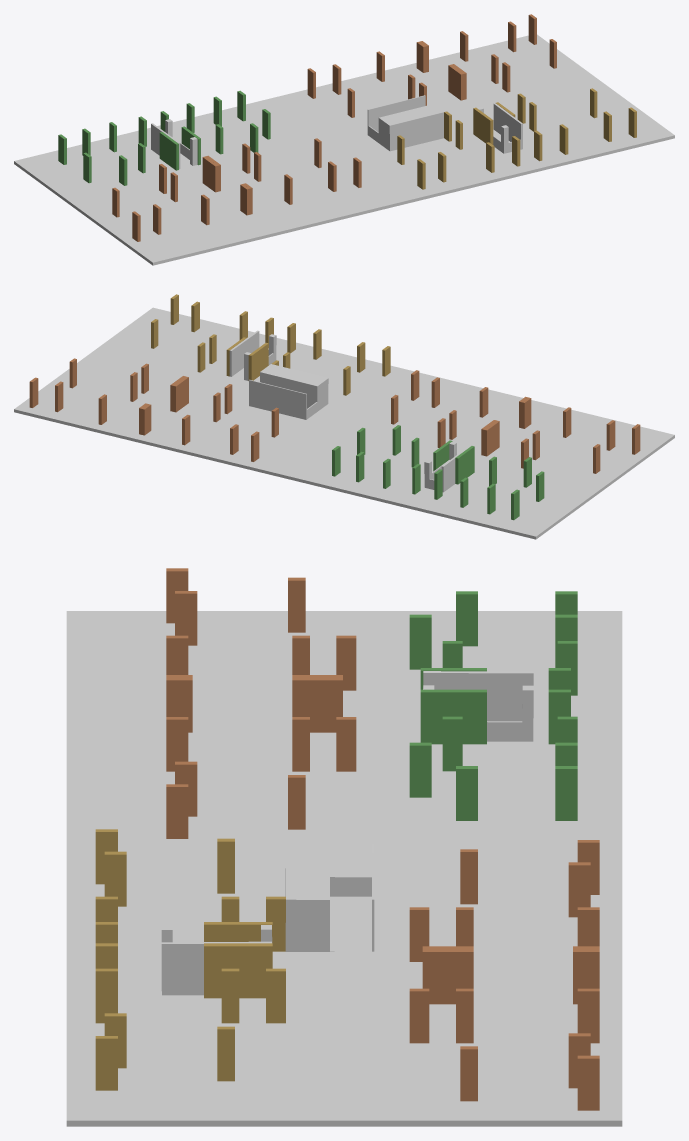
The model's file is cluster2VoidDeck.glb.
3 renders of one model, top to bottom at view 1: azimuth 30°, elevation 25°; view 2: azimuth 150°, elevation 25°; view 3: azimuth 270°, elevation 25°, orthographic. The views are drawn at different scales.
Parts seen in each view (by area): view 1: voiddeckFloor, voiddeck5room, voiddeck3room, voiddeck4room; view 2: voiddeckFloor, voiddeck5room, voiddeck3room, voiddeck4room; view 3: voiddeckFloor, voiddeck5room, voiddeck4room, voiddeck3room.
Part boxes in pixels (left/top/right/bottom): voiddeckFloor: left=14, top=34, right=674, bottom=265; voiddeck5room: left=112, top=14, right=556, bottom=241; voiddeck3room: left=58, top=90, right=270, bottom=185; voiddeck4room: left=397, top=88, right=636, bottom=189; voiddeckFloor: left=14, top=307, right=674, bottom=539; voiddeck5room: left=29, top=358, right=640, bottom=473; voiddeck3room: left=332, top=425, right=544, bottom=520; voiddeck4room: left=151, top=294, right=390, bottom=395; voiddeckFloor: left=66, top=611, right=622, bottom=1126; voiddeck5room: left=166, top=568, right=599, bottom=1110; voiddeck4room: left=95, top=829, right=285, bottom=1090; voiddeck3room: left=409, top=591, right=577, bottom=820.
Size of the model in its own units: 54.54 by 2.94 by 25.14.
